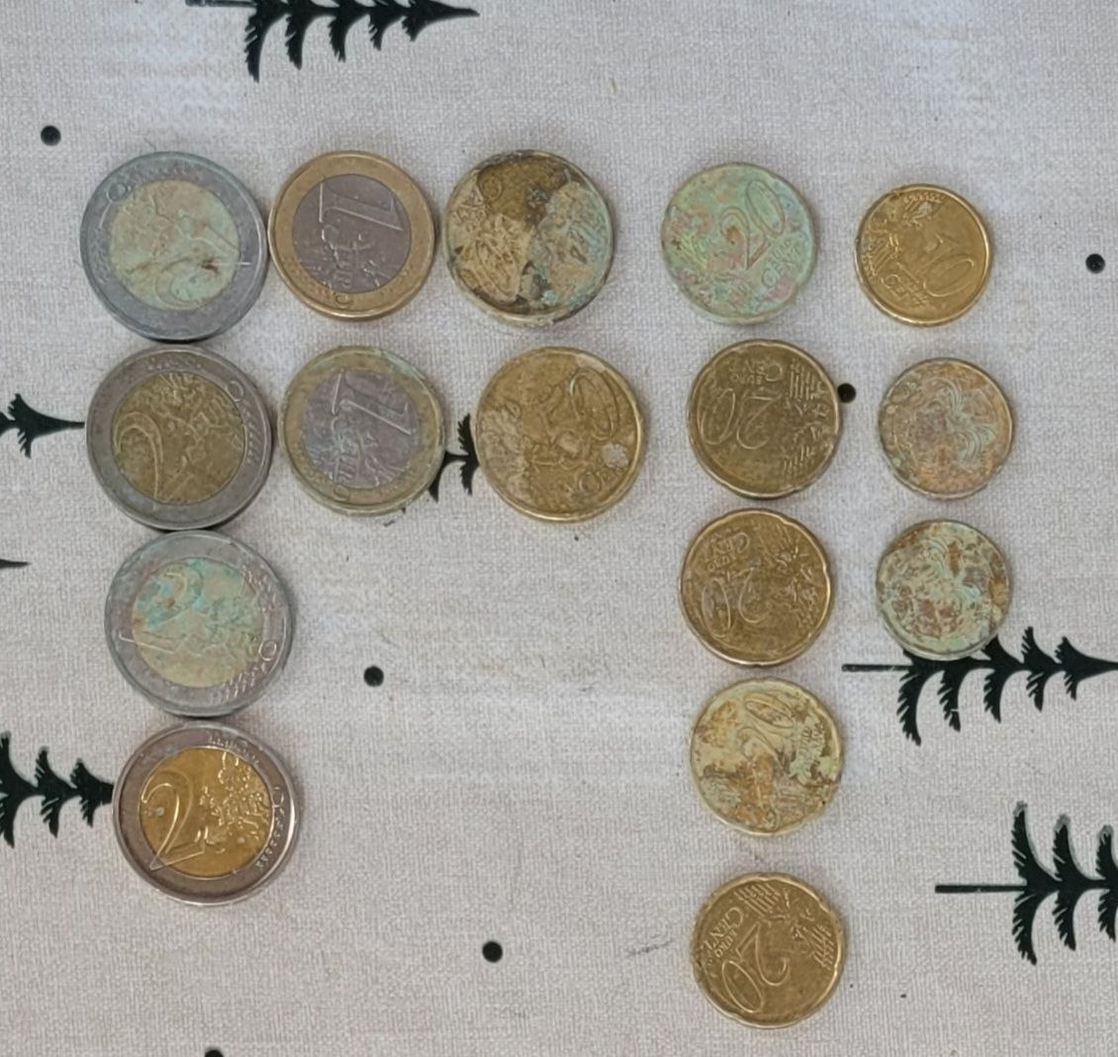1 euro: (281, 345, 451, 526), (268, 150, 437, 322)
10 cent: (113, 723, 301, 906), (850, 177, 999, 330), (865, 516, 1021, 660), (878, 358, 1015, 501)
2 euro: (80, 151, 268, 343), (104, 531, 295, 719), (85, 347, 273, 531)
20 cent: (679, 498, 840, 672), (661, 162, 818, 326), (690, 871, 844, 1038), (687, 339, 843, 501), (689, 679, 844, 837)
50 cent: (472, 347, 646, 524), (442, 150, 615, 327)
